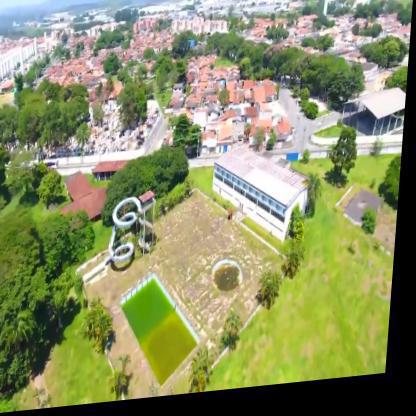agua: (124, 204, 206, 364), (130, 298, 172, 333), (217, 265, 248, 302)
